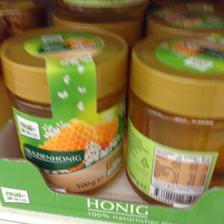Honig: (0, 23, 128, 200), (126, 32, 222, 202)
